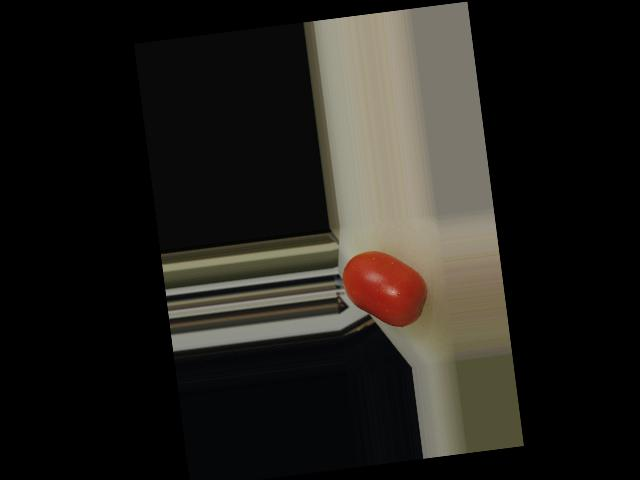tomato: (339, 244, 431, 333)
